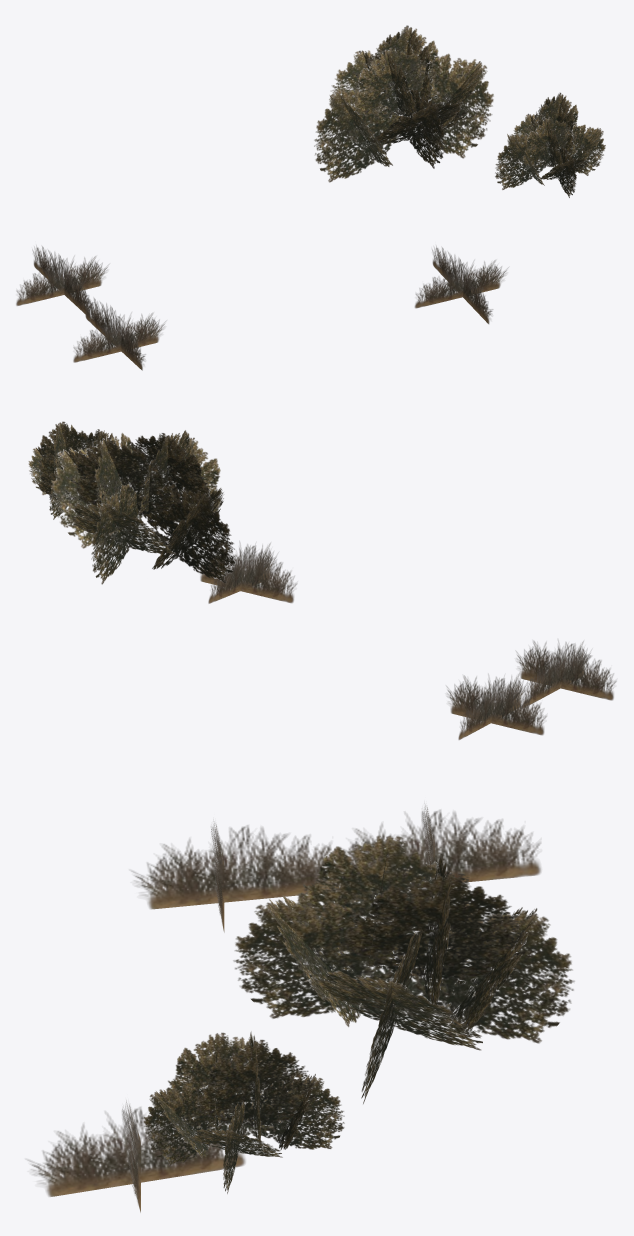
File: 0805worlddeserttransparent_worlddeserttransparentmaterial_0_lev.glb
3 renders of one model, top to bottom at view 1: azimuth 30°, elevation 25°; view 2: azimuth 150°, elevation 25°; view 3: azimuth 270°, elevation 25°, orthographic. The views are drawn at different scales.
Visible parts, largest first — view 1: 0805worlddeserttransparent_worlddeserttransparentmaterial_0_; view 2: 0805worlddeserttransparent_worlddeserttransparentmaterial_0_; view 3: 0805worlddeserttransparent_worlddeserttransparentmaterial_0_.
Boxes of the visible parts, left/top/right/bottom form: 0805worlddeserttransparent_worlddeserttransparentmaterial_0_: left=16, top=25, right=605, bottom=370; 0805worlddeserttransparent_worlddeserttransparentmaterial_0_: left=28, top=421, right=616, bottom=739; 0805worlddeserttransparent_worlddeserttransparentmaterial_0_: left=25, top=805, right=574, bottom=1212.
Size of the model in its own units: 6.73 by 2.6 by 3.7.
Materials: 1 (1 with a texture image).
